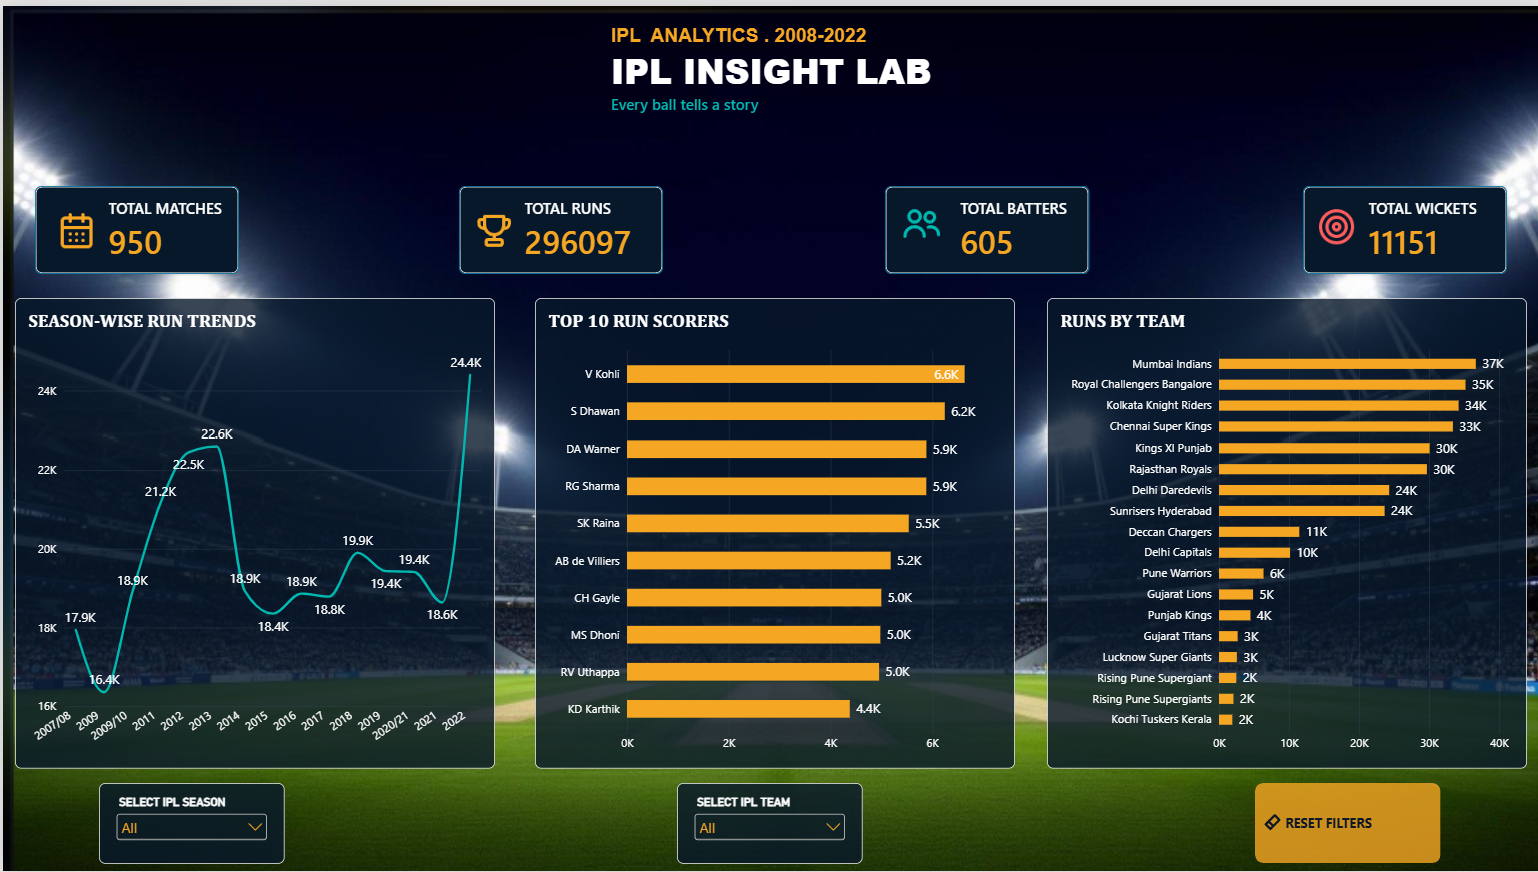

The dashboard page shown, as its layout file describes it:
{"tool":"powerbi","page":{"name":"IPL Overview","canvas":[1920,1080],"ordinal":0},"visuals":[{"type":"group","id":"g1","title":"Group 1","box":[39.8,225,1840.4,110],"z":0},{"type":"cardVisual","fields":{"Data":["Count(ipl-matches.ID)"]},"box":[39.8,225,255,110],"z":1000,"group":"g1"},{"type":"group","id":"g2","title":"Group 2","box":[15.5,364,1889,587],"z":1000},{"type":"cardVisual","fields":{"Data":["Sum(IPL_Ball_by_Ball_2008_2022.isWicketDelivery)"]},"box":[1625.2,225,255,110],"z":2000,"group":"g1"},{"type":"group","id":"g3","title":"Group 3","box":[121,970,1678,100.9],"z":2000},{"type":"textbox","box":[759,22,402,124],"z":3000},{"type":"cardVisual","fields":{"Data":["Count(IPL_Ball_by_Ball_2008_2022.batter)"]},"box":[1102.7,225,255.7,110],"z":3000,"group":"g1"},{"type":"cardVisual","fields":{"Data":["Sum(IPL_Ball_by_Ball_2008_2022.total_run)"]},"box":[569.5,225,255,110],"z":4000,"group":"g1"},{"type":"clusteredBarChart","title":"RUNS BY TEAM","fields":{"Category":["IPL_Ball_by_Ball_2008_2022.BattingTeam"],"Y":["Sum(IPL_Ball_by_Ball_2008_2022.total_run)"]},"box":[1304.5,364,600,587],"z":5000,"group":"g2"},{"type":"clusteredBarChart","title":"TOP 10 RUN SCORERS","fields":{"Category":["batsman_runs_ipl.batter"],"Y":["Max(batsman_runs_ipl.batsman_run)"]},"box":[665,364,600,587],"z":6000,"group":"g2"},{"type":"lineChart","title":"SEASON-WISE RUN TRENDS","fields":{"Category":["ipl-matches.Season"],"Y":["Sum(IPL_Ball_by_Ball_2008_2022.total_run)"]},"box":[15.5,364,600,587],"z":7000,"group":"g2"},{"type":"slicer","fields":{"Values":["ipl-matches.Season"]},"box":[121,970,231.8,100.9],"z":8000,"group":"g3"},{"type":"slicer","fields":{"Values":["ipl-matches.WinningTeam"]},"box":[844,970,231.8,100.9],"z":9000,"group":"g3"},{"type":"actionButton","box":[1567,970,232,100],"z":10000,"group":"g3"}]}

Visuals, with their boxes in screenshot pixels (x1, y1, x2, y2), scaled from the page's 1920x1080 canvas onto the 1538x872 screenshot:
"Group 1" group: locate(32, 182, 1506, 270)
cardVisual - Count(ipl-matches.ID): locate(32, 182, 236, 270)
"Group 2" group: locate(12, 294, 1526, 768)
cardVisual - Sum(IPL_Ball_by_Ball_2008_2022.isWicketDelivery): locate(1302, 182, 1506, 270)
"Group 3" group: locate(97, 783, 1441, 865)
textbox: locate(608, 18, 930, 118)
cardVisual - Count(IPL_Ball_by_Ball_2008_2022.batter): locate(883, 182, 1088, 270)
cardVisual - Sum(IPL_Ball_by_Ball_2008_2022.total_run): locate(456, 182, 660, 270)
"RUNS BY TEAM" clusteredBarChart: locate(1045, 294, 1526, 768)
"TOP 10 RUN SCORERS" clusteredBarChart: locate(533, 294, 1013, 768)
"SEASON-WISE RUN TRENDS" lineChart: locate(12, 294, 493, 768)
slicer - ipl-matches.Season: locate(97, 783, 283, 865)
slicer - ipl-matches.WinningTeam: locate(676, 783, 862, 865)
actionButton: locate(1255, 783, 1441, 864)
